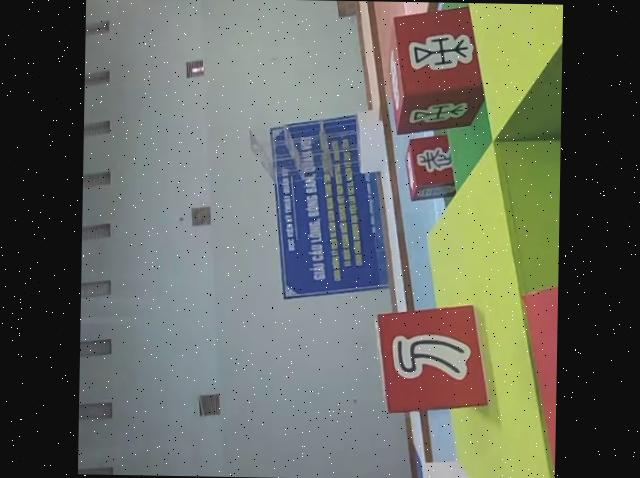R2 Fake: (376, 303, 491, 414), (405, 133, 463, 203)
R2 Real: (387, 2, 483, 136)
